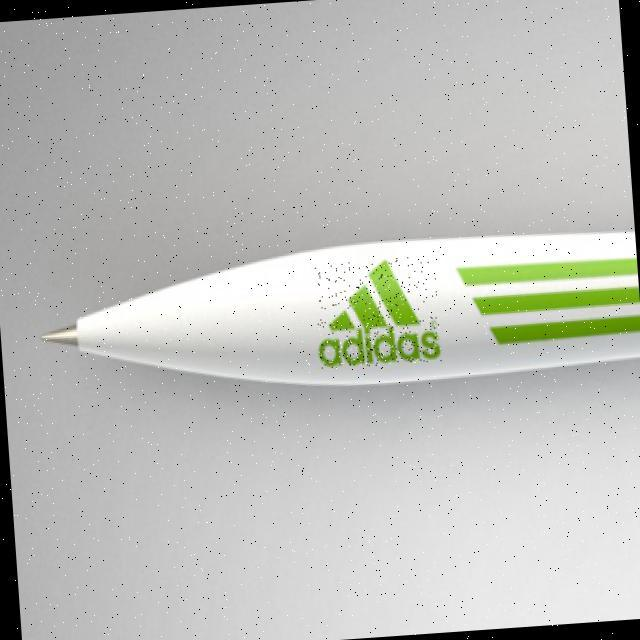Adidas: (312, 254, 441, 369)
